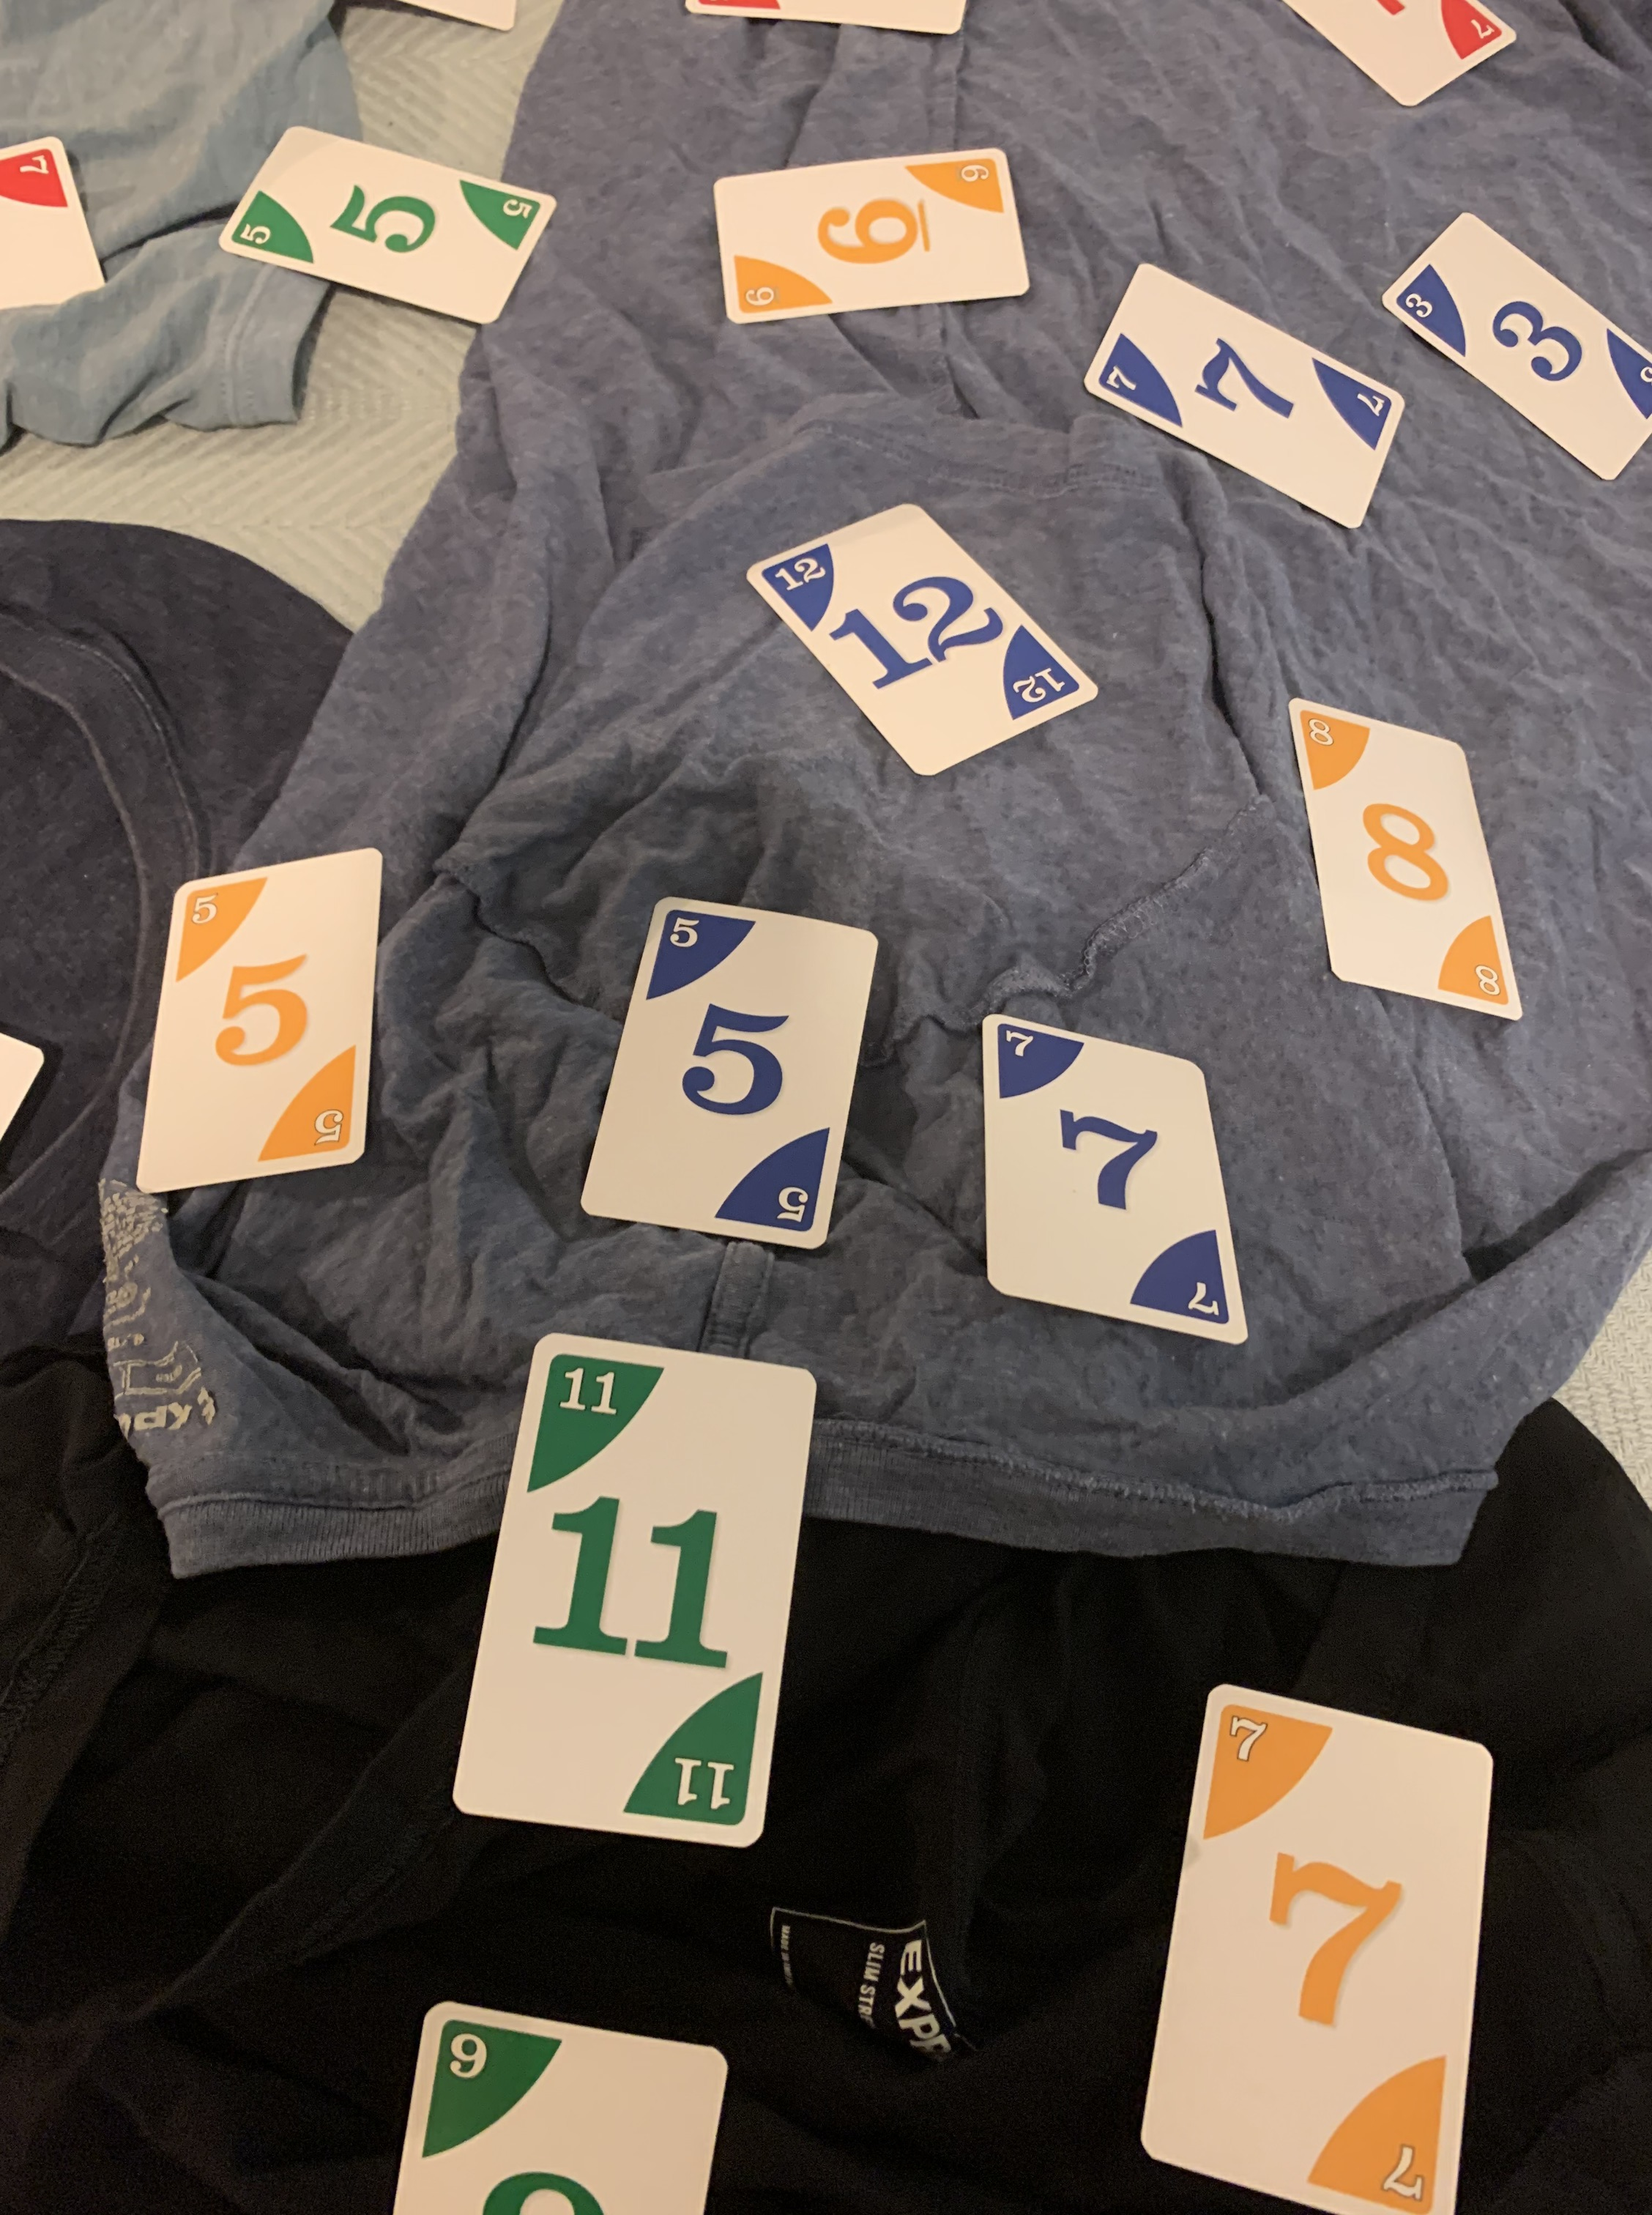eight: (1286, 700, 1520, 1028)
eleven: (436, 1326, 821, 1854)
five: (573, 889, 882, 1252), (109, 835, 392, 1212), (213, 118, 562, 330)
seven: (1121, 1670, 1494, 2215), (1074, 257, 1414, 543), (975, 1000, 1248, 1345)
six: (694, 146, 1041, 325)
three: (1380, 198, 1652, 503)
twelve: (727, 505, 1102, 776)
